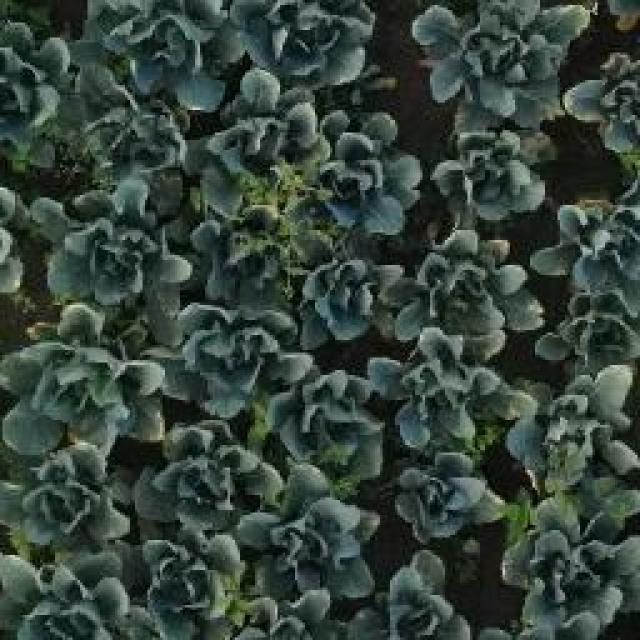cabbage: (1, 306, 162, 449), (495, 492, 640, 638), (419, 0, 575, 120), (399, 225, 541, 346), (509, 364, 638, 495), (245, 477, 380, 601), (202, 72, 324, 207), (46, 199, 190, 310), (77, 0, 235, 100), (380, 328, 510, 446), (2, 432, 130, 548), (139, 420, 277, 527), (313, 112, 421, 236), (0, 547, 142, 640), (226, 0, 380, 84), (188, 202, 299, 315), (293, 246, 404, 357), (0, 16, 79, 170), (535, 185, 640, 295), (76, 94, 196, 190), (389, 446, 506, 544), (433, 126, 545, 223), (138, 526, 247, 621), (362, 552, 478, 640), (282, 375, 379, 468), (536, 297, 640, 373), (191, 317, 281, 403)
